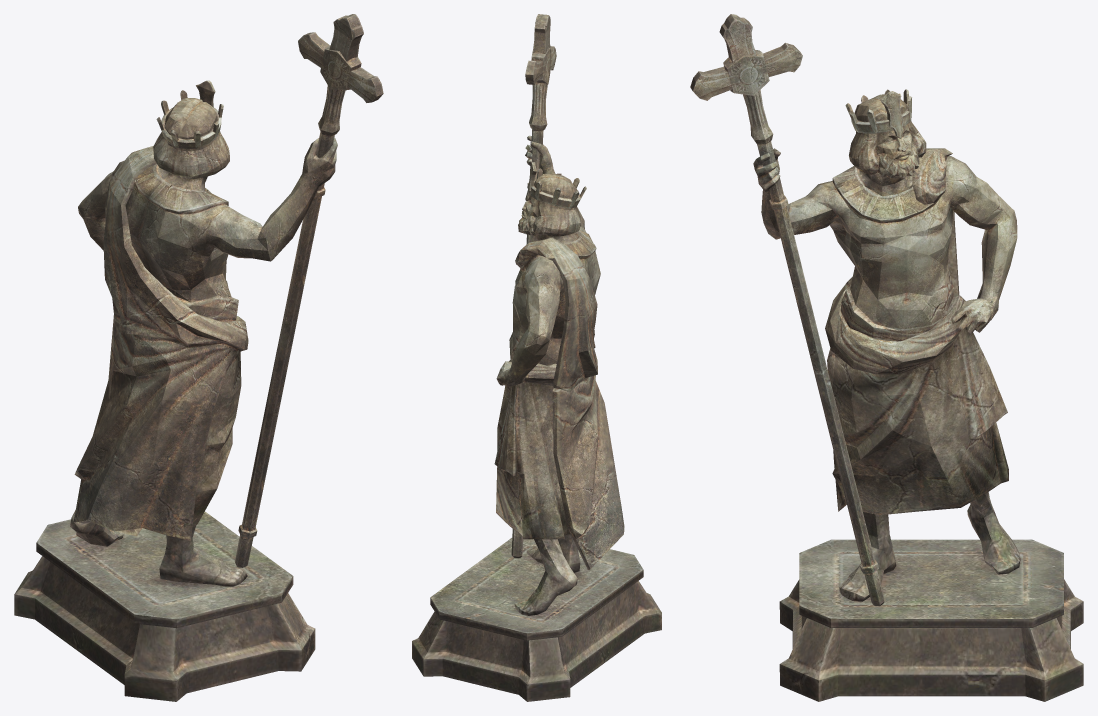
Rendered from bg_atm_loghill_statue01_sm_artree.FBX.
3 renders of one model, left to right at view 1: azimuth 30°, elevation 25°; view 2: azimuth 150°, elevation 25°; view 3: azimuth 270°, elevation 25°, orthographic. The views are drawn at different scales.
Visible parts, largest first — view 1: bg_atm_loghill_statue01_sm_artree; view 2: bg_atm_loghill_statue01_sm_artree; view 3: bg_atm_loghill_statue01_sm_artree.
Boxes of the visible parts, x1,y1,x2,y2 form: bg_atm_loghill_statue01_sm_artree: [14, 14, 383, 701]; bg_atm_loghill_statue01_sm_artree: [412, 14, 661, 701]; bg_atm_loghill_statue01_sm_artree: [690, 14, 1083, 701].
Bounding box in the file's own units: 111 × 357 × 187.
